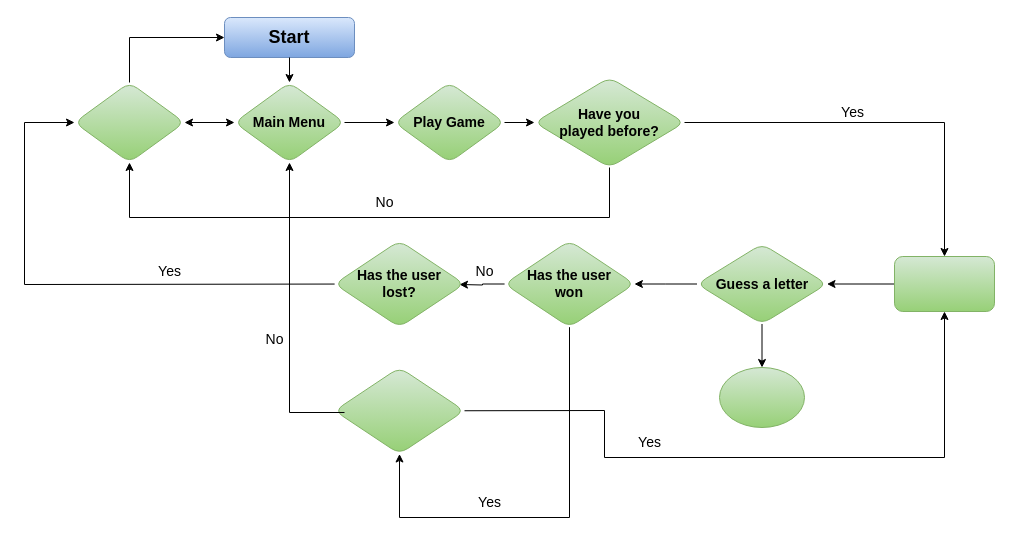
This 1012x543 diagram has some shape labels left out. The shapes that lost their labels are listed below. From the top down, each one's centre as x and y in pixels, then its label:
[129,122]: View Rules
[944,284]: Start Game
[399,410]: Play again?
[761,397]: Check input validation
